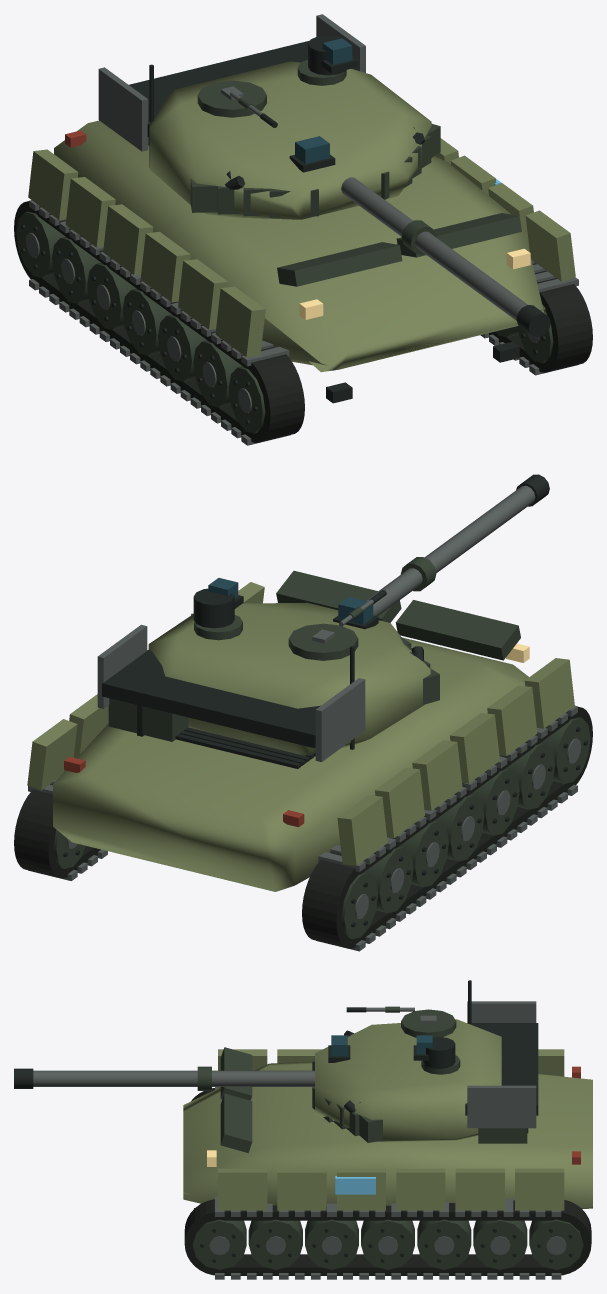
File: tank.glb
The picture shows the model from 3 angles, top to bottom: view 1: azimuth 30°, elevation 25°; view 2: azimuth 150°, elevation 25°; view 3: azimuth 270°, elevation 25°; orthographic projection. The views are drawn at different scales.
Parts seen in each view (by area): view 1: armor (×2), trim (×3), steel (×3), rubber, dark (×3), glass, lamp; view 2: armor (×2), trim (×2), steel (×3), dark (×2), rubber, stowage, glass; view 3: armor (×2), trim (×2), steel (×3), rubber, dark (×3), stowage, marking, glass.
Boxes of the visible parts, <box> form: armor (×2): <box>28,61,575,372</box>; trim (×3): <box>16,59,553,433</box>; steel (×3): <box>25,14,578,445</box>; rubber: <box>14,201,592,442</box>; dark (×3): <box>21,35,550,424</box>; glass: <box>295,38,352,163</box>; lamp: <box>299,248,530,319</box>; armor (×2): <box>27,582,574,891</box>; trim (×2): <box>53,570,590,939</box>; steel (×3): <box>28,485,581,951</box>; dark (×2): <box>63,588,587,927</box>; rubber: <box>14,706,592,948</box>; stowage: <box>108,698,188,741</box>; glass: <box>208,578,373,624</box>; armor (×2): <box>183,1019,592,1210</box>; trim (×2): <box>192,1009,583,1269</box>; steel (×3): <box>33,1001,566,1279</box>; rubber: <box>184,1088,591,1275</box>; dark (×3): <box>14,980,572,1262</box>; stowage: <box>478,1128,527,1143</box>; marking: <box>335,1176,375,1194</box>; glass: <box>331,1035,432,1056</box>.
Size of the model in its own units: 3.76 by 2.7 by 7.14.
